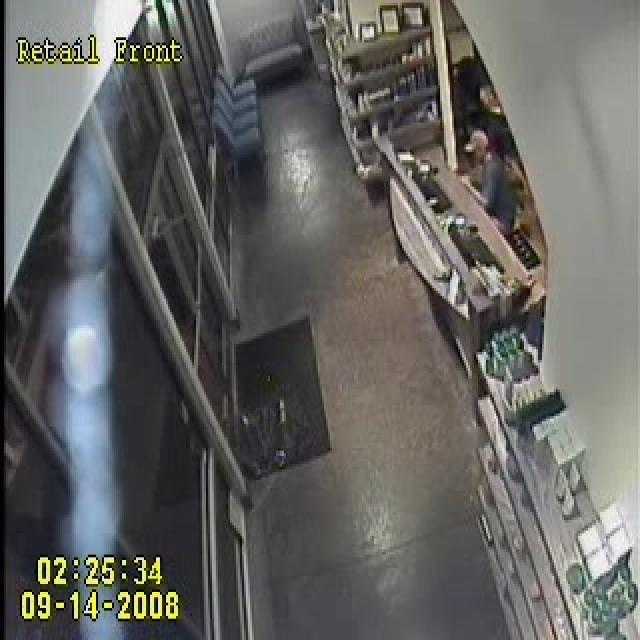thief: (453, 129, 522, 259)
